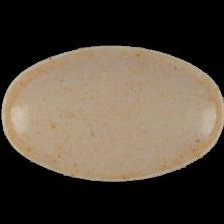0093-0026: (0, 0, 224, 224)
